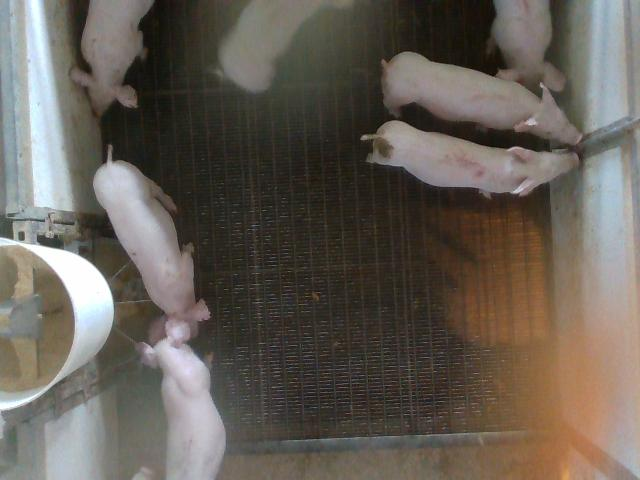pig-5: (361, 120, 579, 197)
